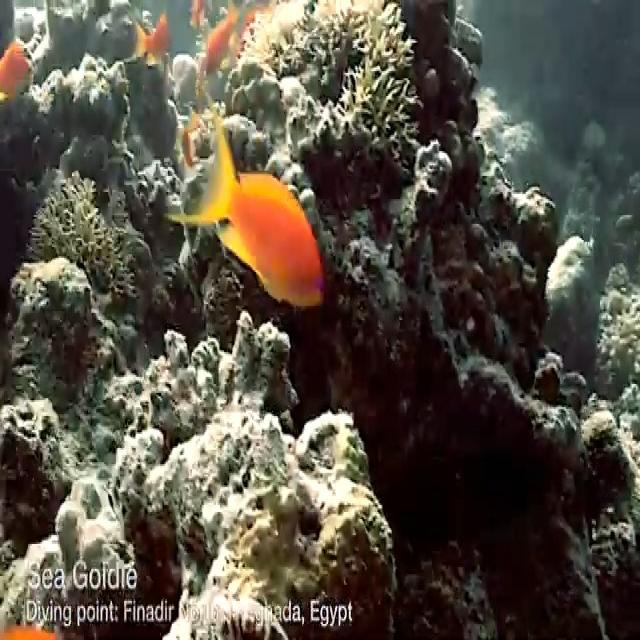Sea Goldie: (163, 111, 324, 305), (196, 6, 238, 71), (129, 9, 171, 68), (2, 43, 30, 92)
